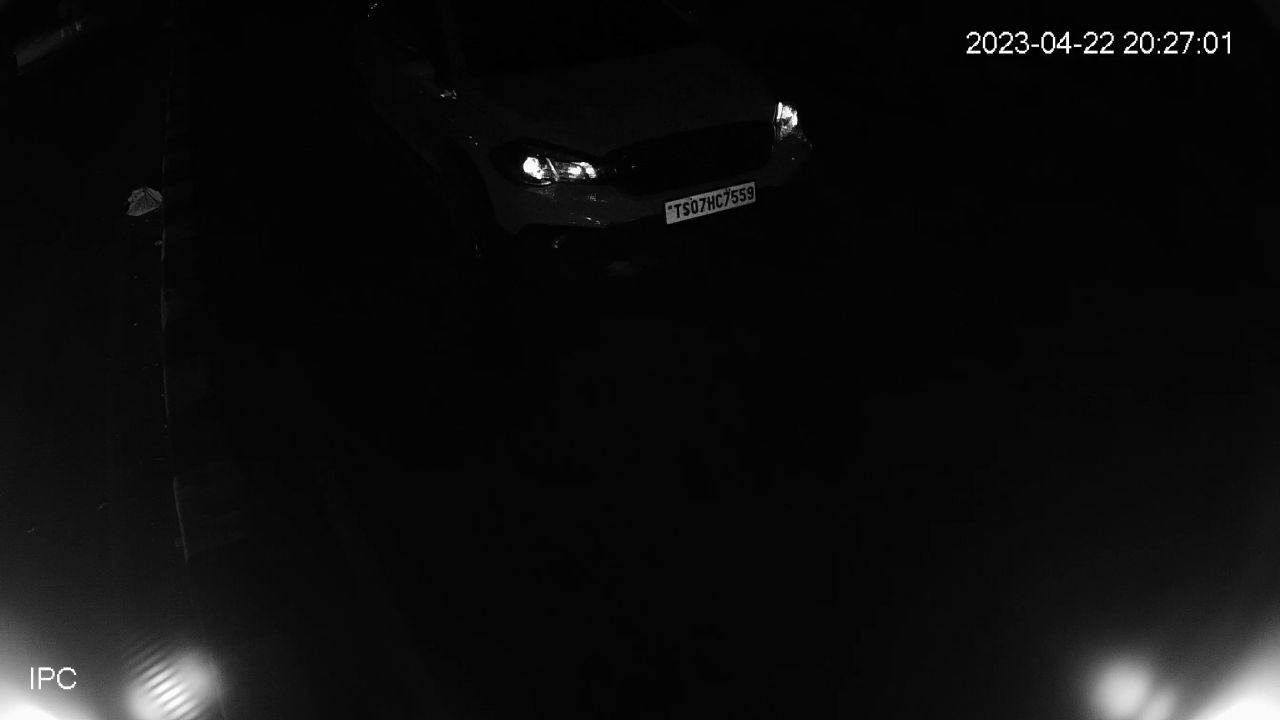license_plate: (662, 176, 758, 230)
